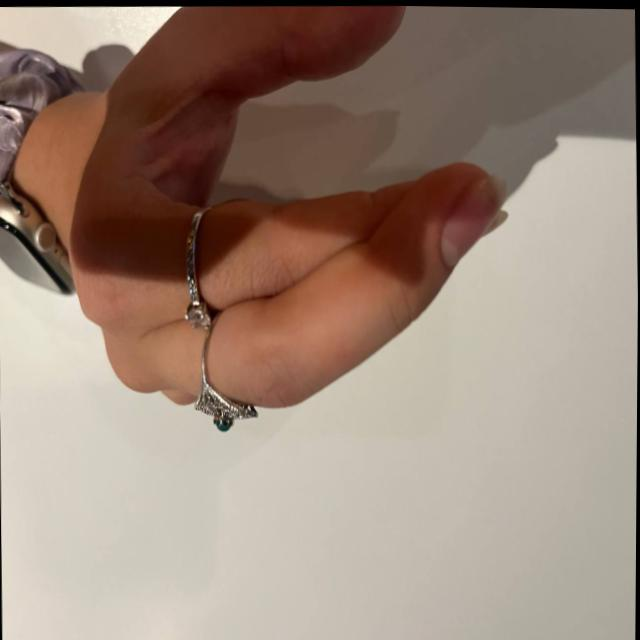ia: (67, 1, 539, 405)
